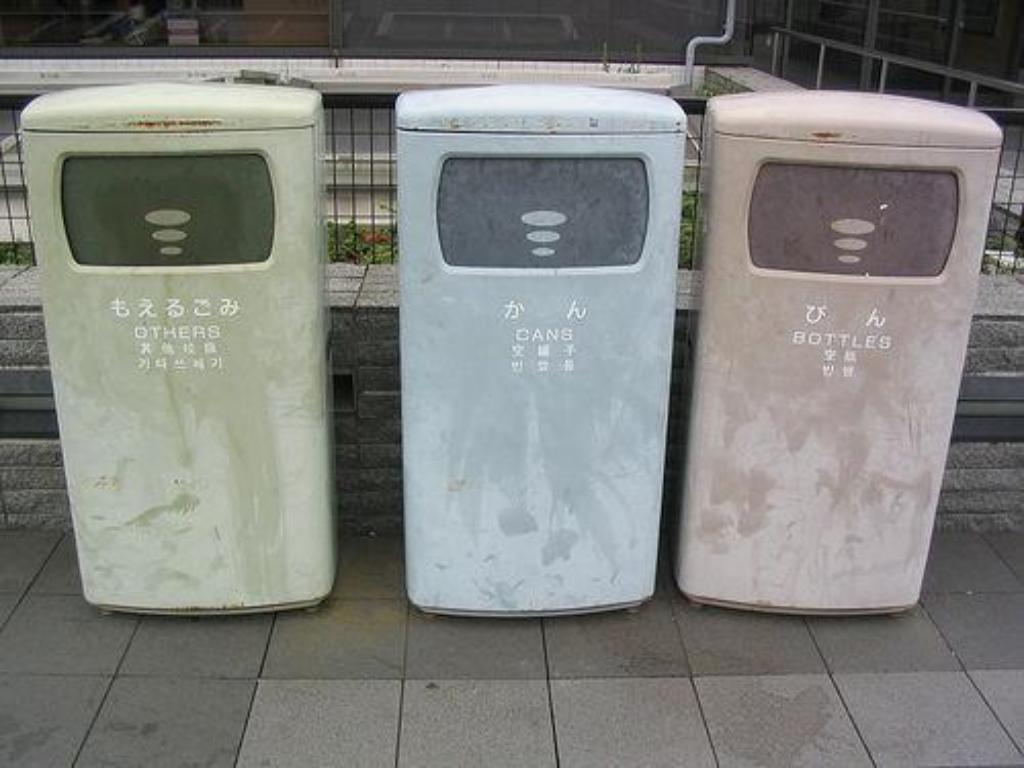dustbin: (21, 79, 350, 616), (389, 84, 677, 613), (699, 84, 971, 621)
